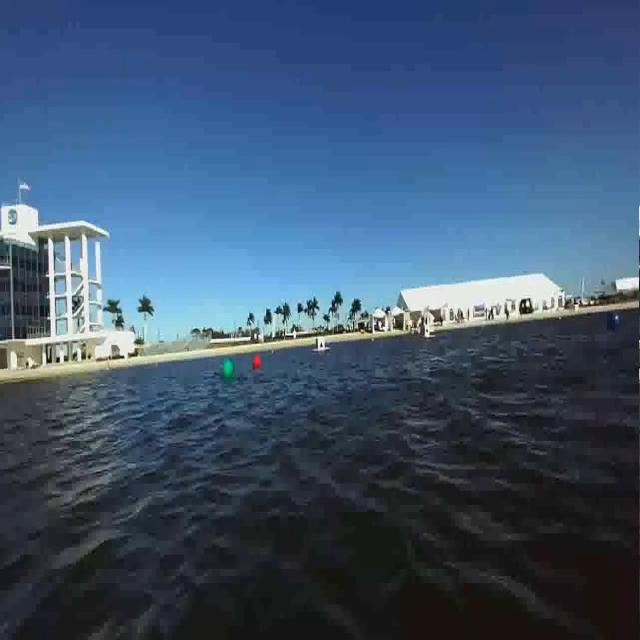green-buoy: (222, 358, 233, 379)
red-buoy: (253, 354, 261, 369)
